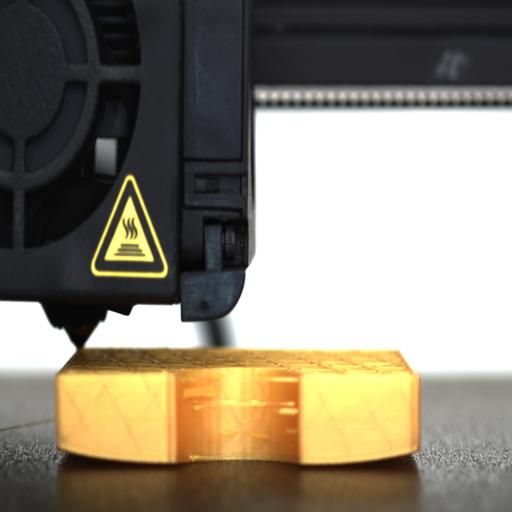warp: (52, 430, 150, 468), (352, 437, 426, 469)
